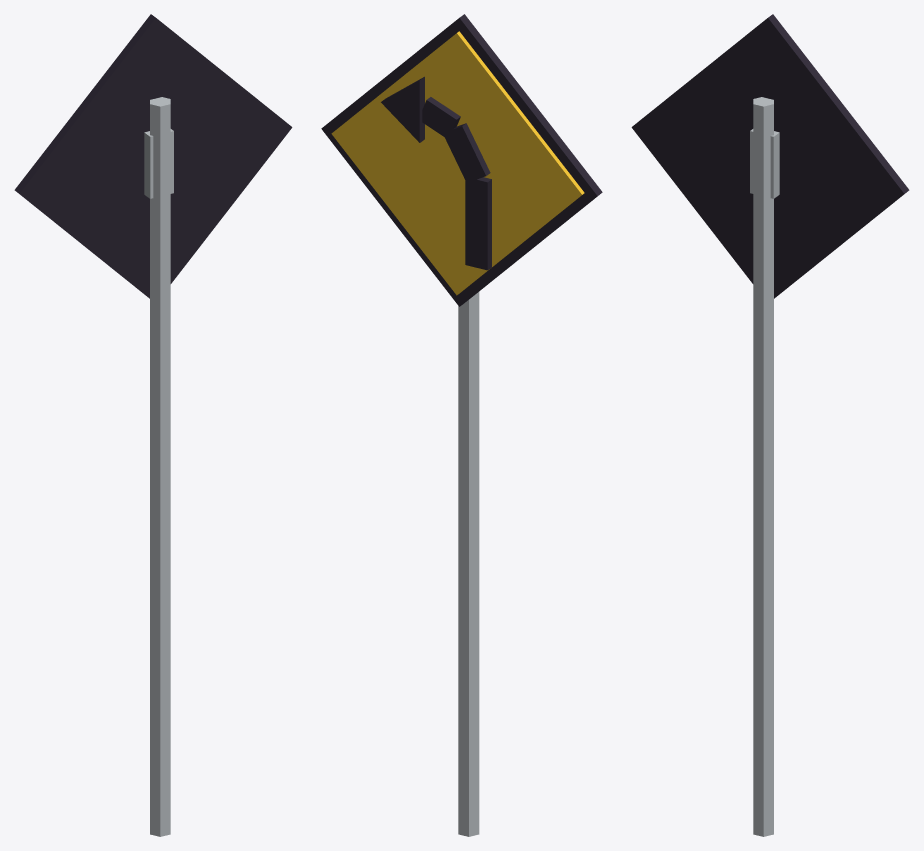
Rendered from sign_curve_left.glb.
3 views of the same model, side by side, from view 1: azimuth 30°, elevation 25°; view 2: azimuth 150°, elevation 25°; view 3: azimuth 330°, elevation 25° (orthographic).
Visible parts, largest first — view 1: sign_curve_left; view 2: sign_curve_left; view 3: sign_curve_left.
Part boxes in pixels (x1,y1,x2,y2): sign_curve_left: [14, 14, 292, 836]; sign_curve_left: [321, 14, 602, 836]; sign_curve_left: [631, 14, 909, 836].
Size of the model in its own units: 0.9192 by 2.61 by 0.1403.
